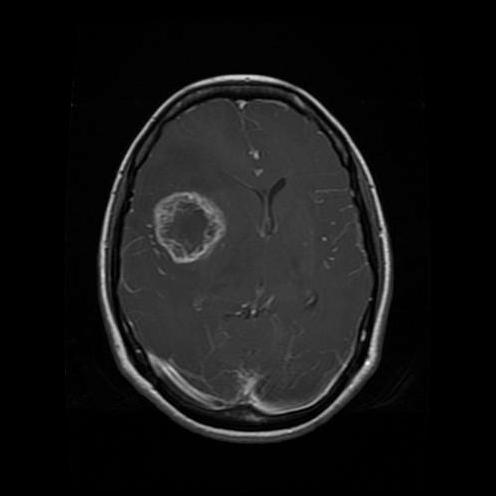Tumour-Glioma: (149, 192, 237, 269)
